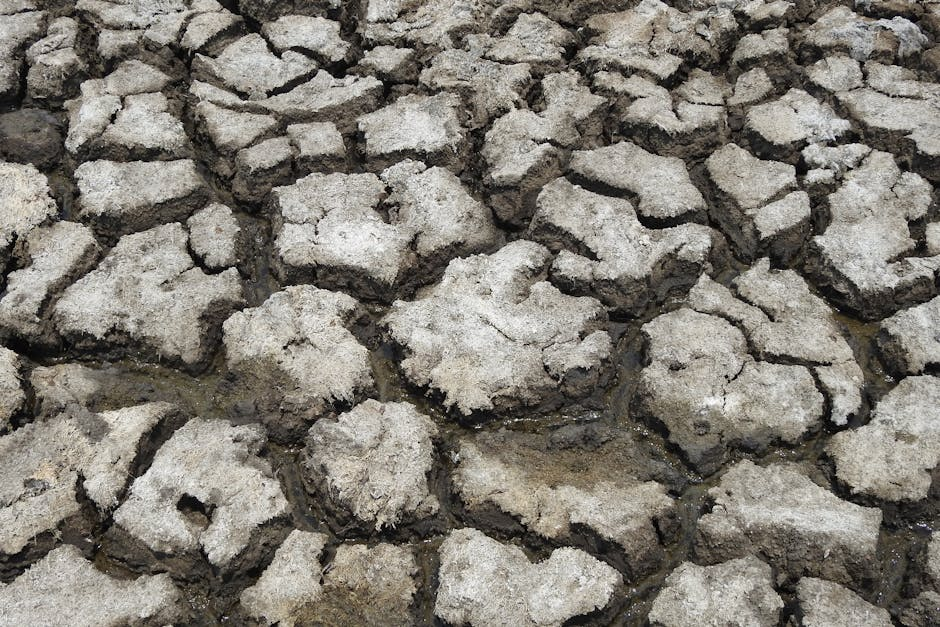深大裂缝: (22, 326, 461, 578), (542, 248, 876, 547), (141, 42, 331, 343)
